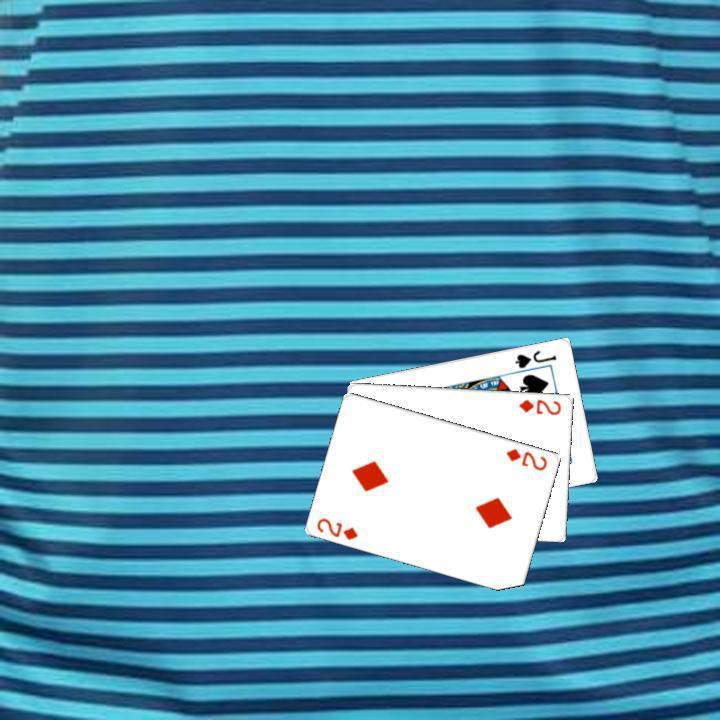2: (313, 513, 360, 542), (502, 444, 549, 472), (515, 394, 563, 416)
J: (511, 345, 558, 370)
